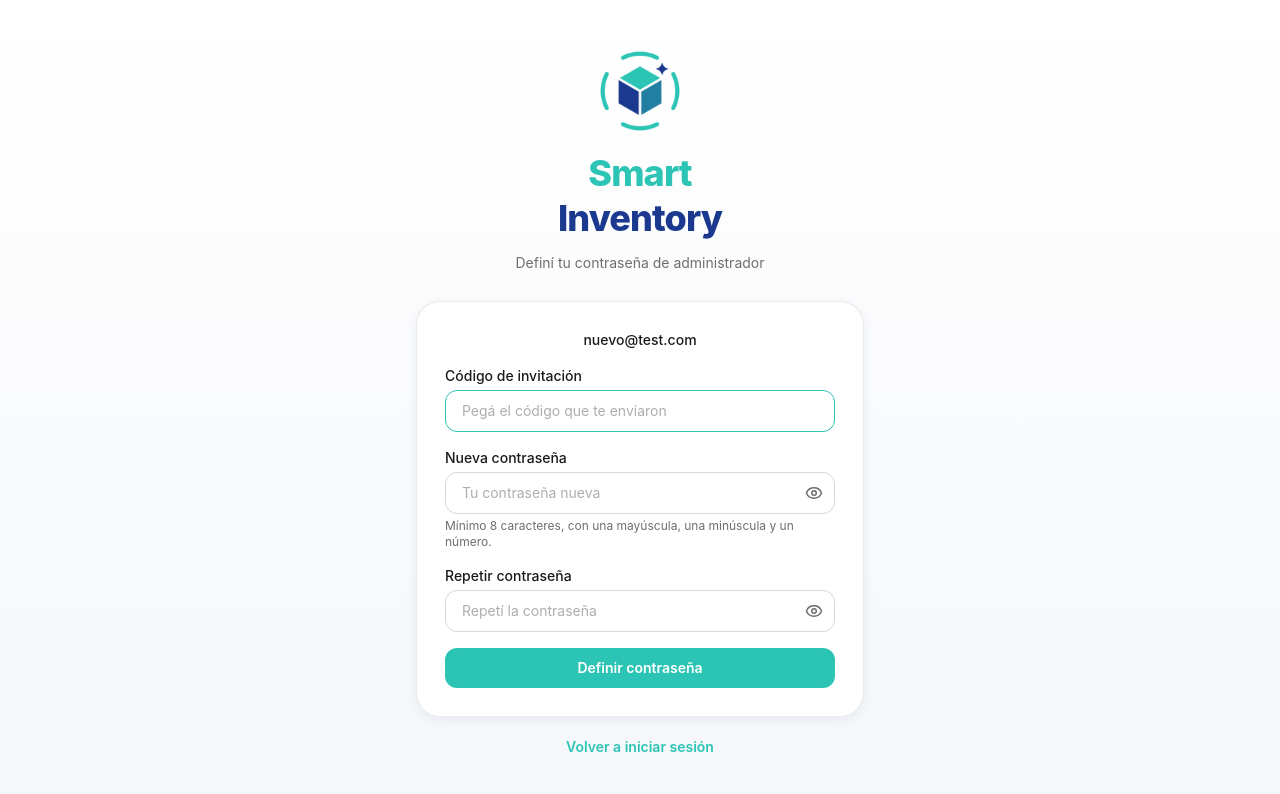
Test: SetPassword › si las contraseñas no coinciden, lo avisa
Type "codigo-123" into the field with placeholder "Pegá el código que te enviaron" at (640, 411), box [445,390,835,432]
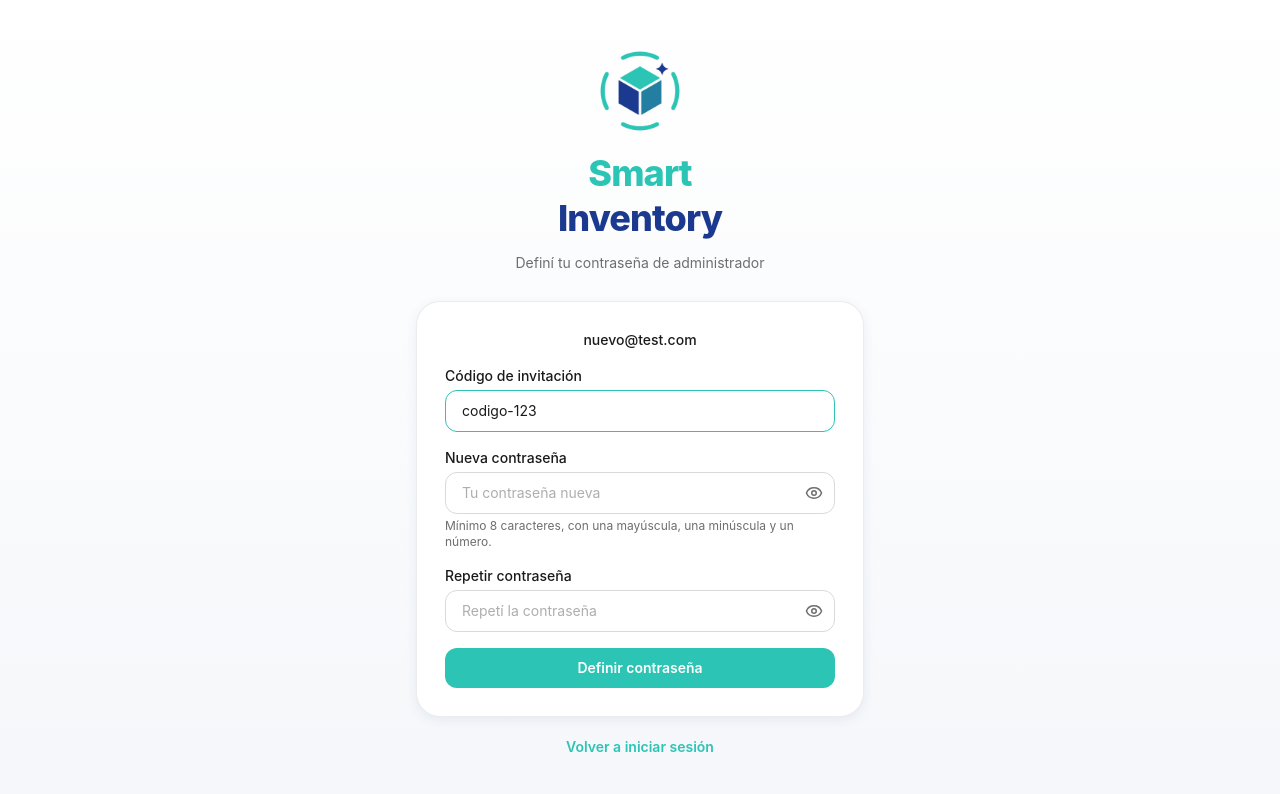
Type "Abcdefg1" into the password field labelled "Nueva contraseña" at (640, 493), box [445,472,835,514]
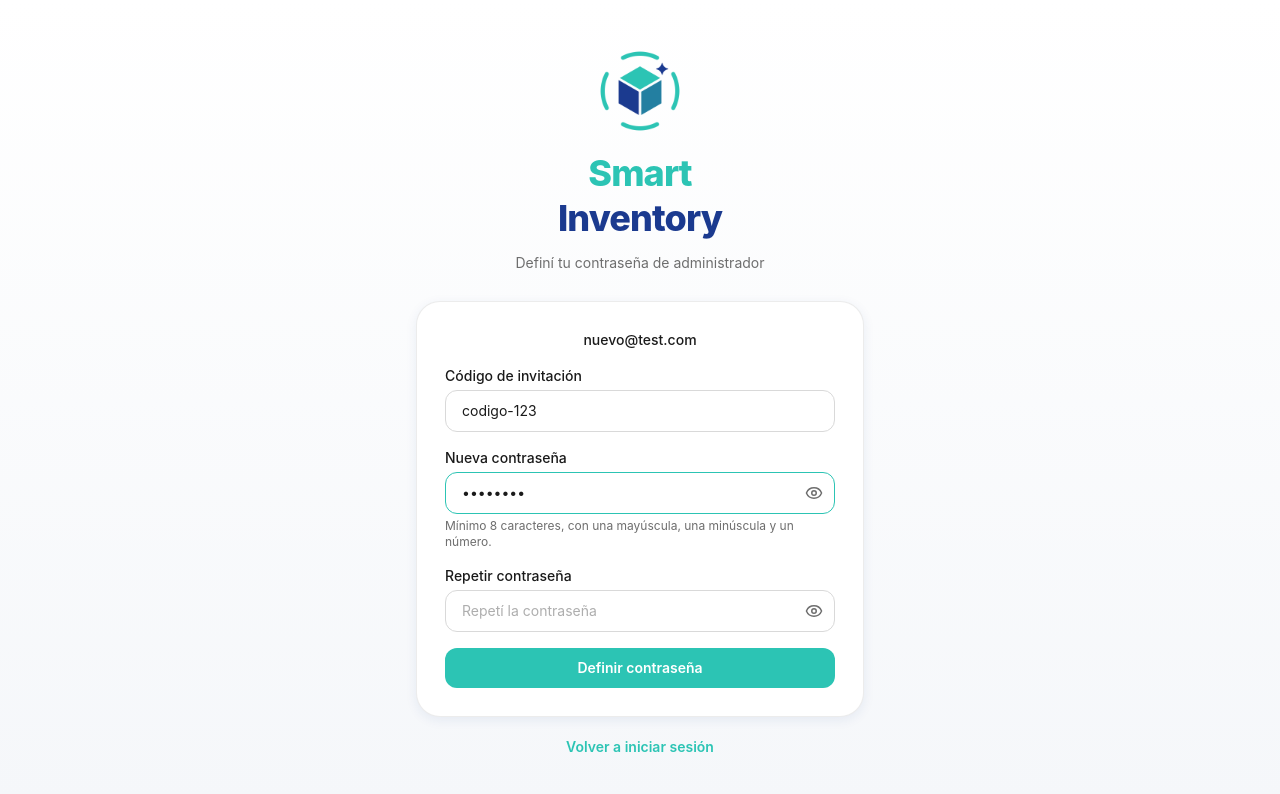
Type "Abcdefg2" into the password field labelled "Repetir contraseña" at (640, 611), box [445,590,835,632]
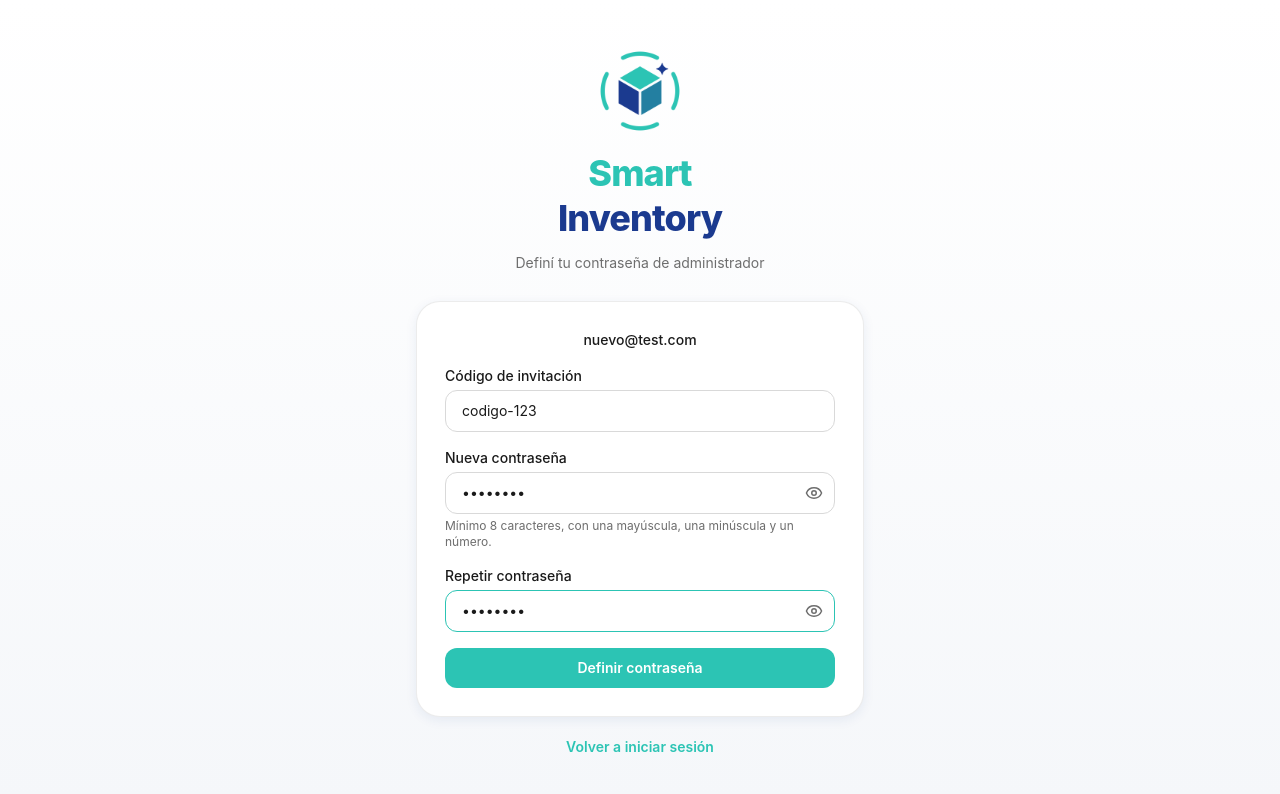
Click the button "Definir contraseña" at (640, 668), box [445,648,835,688]
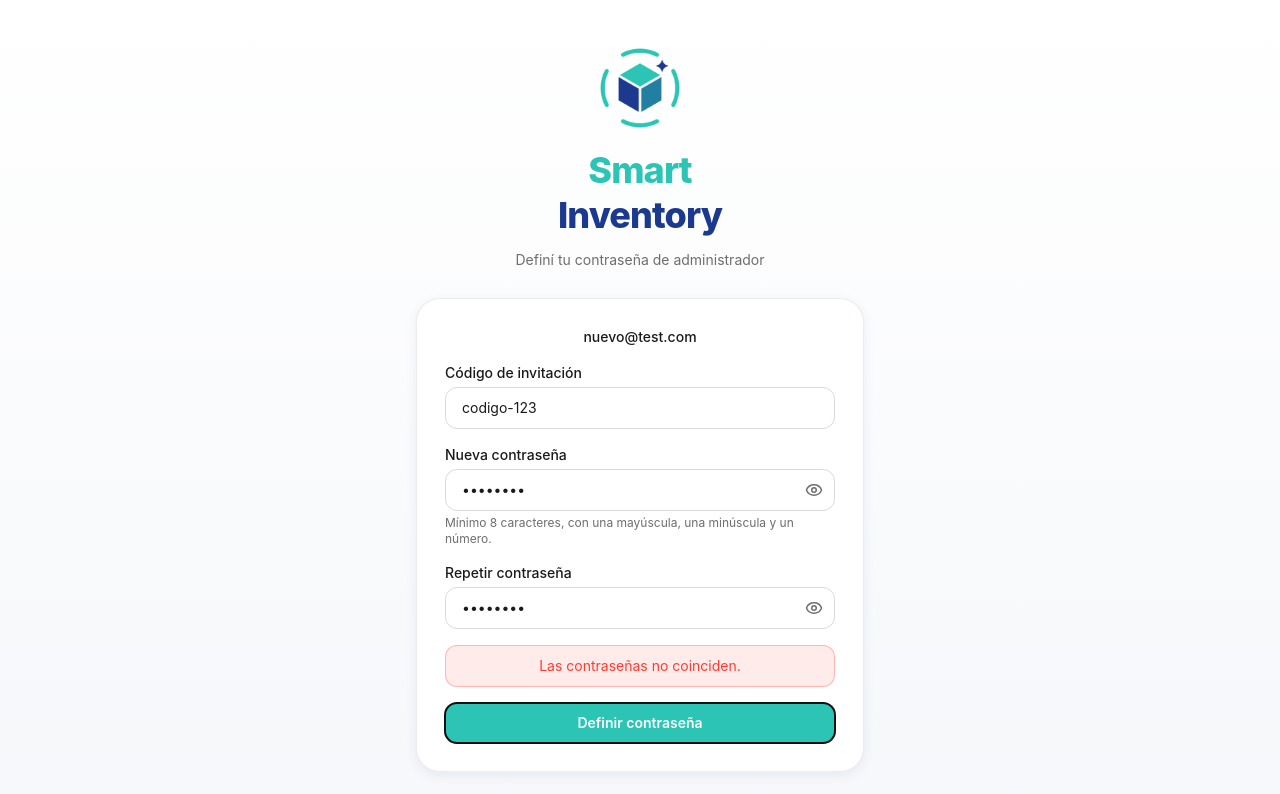
Expected: the text "Las contraseñas no coinciden." is shown, [445,645,835,687]
